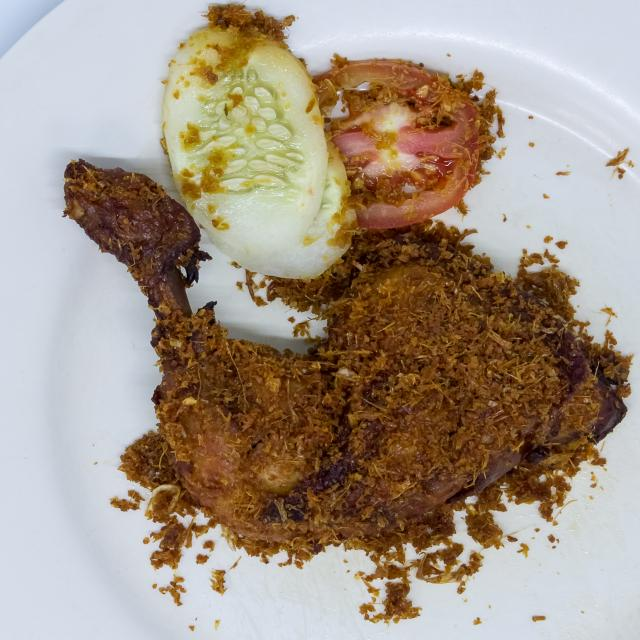Ayam-Goreng-Lengkuas: (44, 150, 630, 573)
